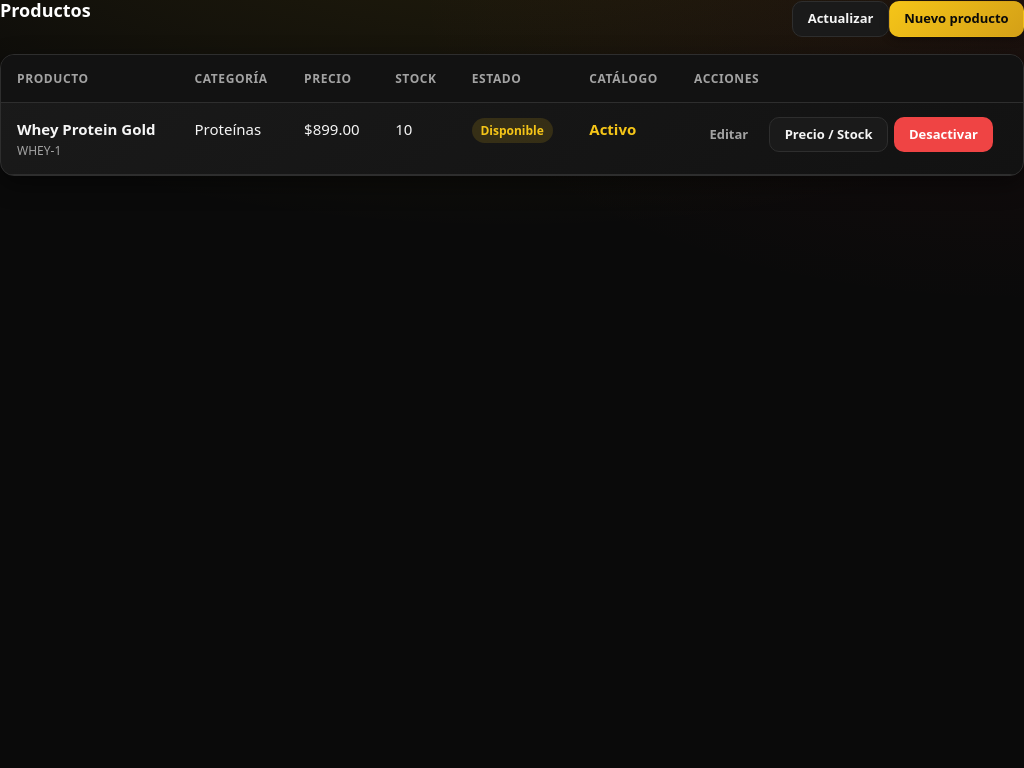
AdminProductsPanel › abre formulario al crear producto
The width and height of the screenshot is (1024, 768).
Step 1. Click the button "Nuevo producto" → (956, 19), box [889, 1, 1023, 37]
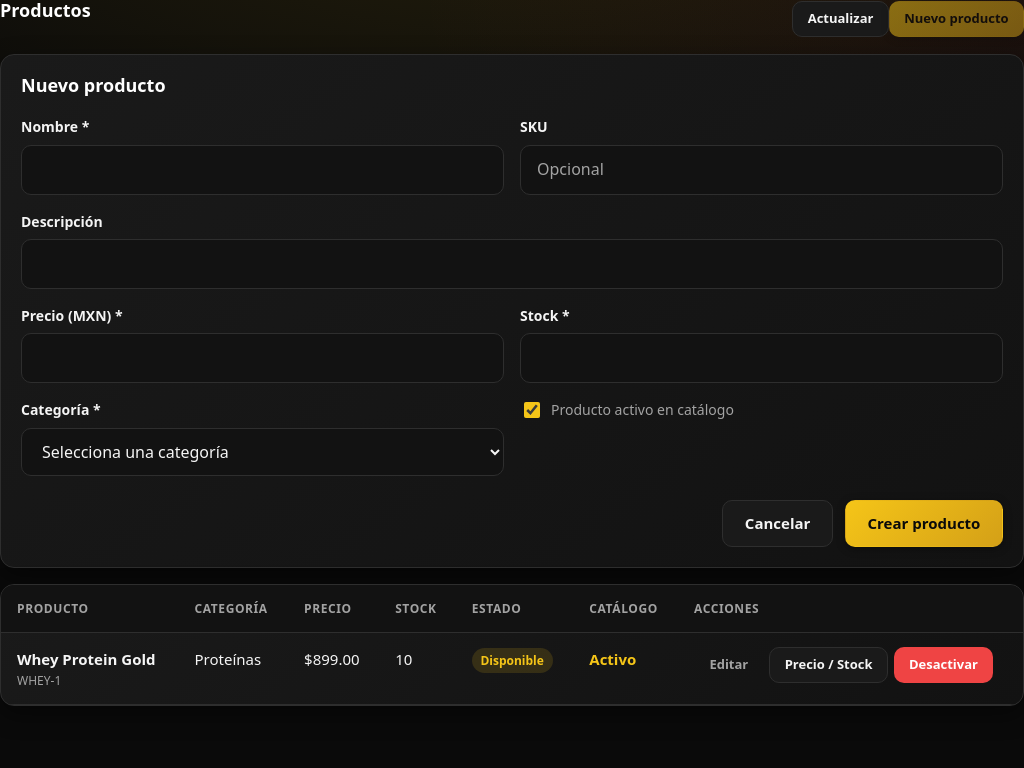
Now the field labelled "Nombre *" is shown, box [21, 145, 504, 195]
